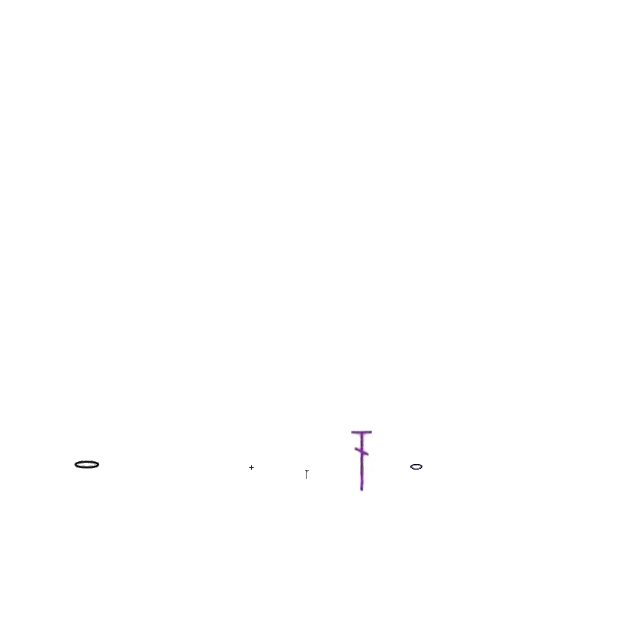chain: (72, 459, 102, 471), (410, 462, 424, 472)
double: (250, 466, 254, 470)
double treble: (352, 428, 372, 492), (305, 470, 309, 480)
